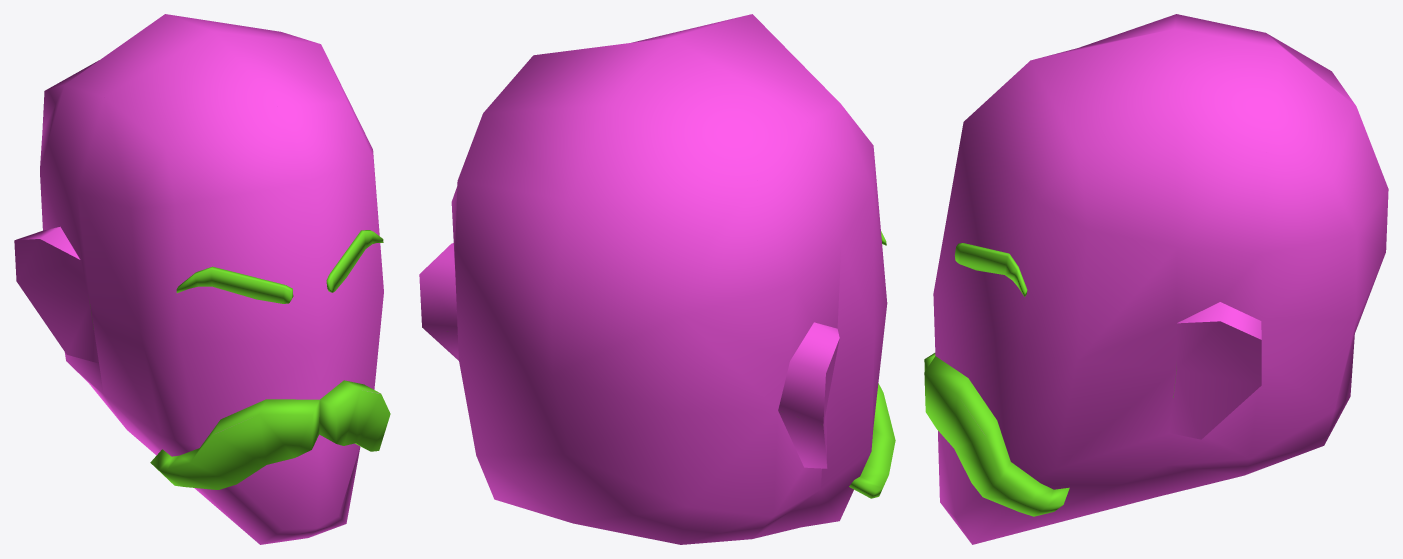
The model's file is egil_bake.glb.
The picture shows the model from 3 angles, left to right: view 1: azimuth 30°, elevation 25°; view 2: azimuth 150°, elevation 25°; view 3: azimuth 270°, elevation 25°; orthographic projection. The views are drawn at different scales.
Parts seen in each view (by area): view 1: egil.head.export; view 2: egil.head.export; view 3: egil.head.export.
Boxes of the visible parts, <box> form: egil.head.export: <box>14,14,390,544</box>; egil.head.export: <box>419,14,895,544</box>; egil.head.export: <box>924,14,1388,544</box>.
Size of the model in its own units: 0.2304 by 0.2996 by 0.2559.
Materials: 1 (1 with a texture image).
